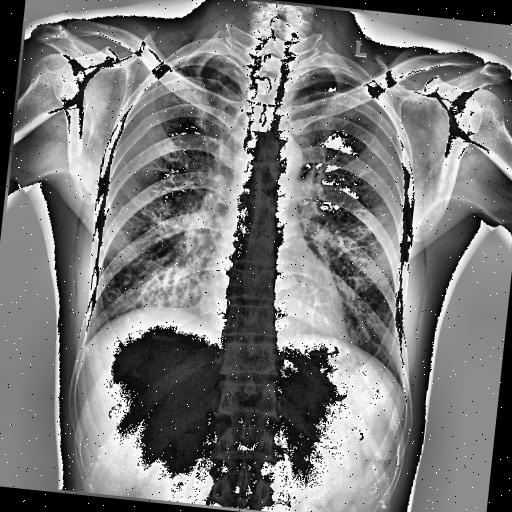13- Pulmonary fibrosis: (206, 61, 229, 92), (208, 66, 228, 86)
5- ILD: (142, 264, 206, 312)
6- Infiltration: (104, 212, 222, 322), (139, 253, 202, 314)
7- Lung Opacity: (139, 253, 202, 314), (142, 264, 206, 312)
9- Other lesion: (142, 264, 206, 312)
